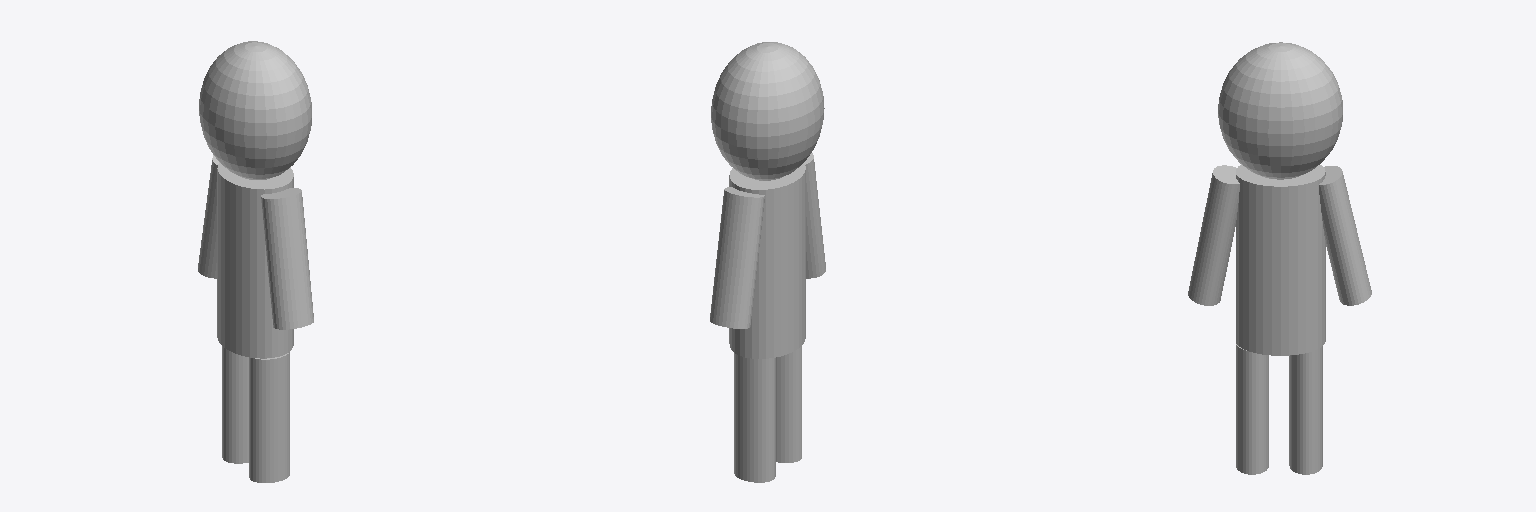
Rendered from simpleHuman.obj.
The picture shows the model from 3 angles: view 1: azimuth 30°, elevation 25°; view 2: azimuth 150°, elevation 25°; view 3: azimuth 270°, elevation 25°; orthographic projection.
Visible parts, largest first — view 1: Cylinder.003; view 2: Cylinder.003; view 3: Cylinder.003.
Boxes of the visible parts, x1=… form: Cylinder.003: x1=198, y1=41, x2=313, y2=482; Cylinder.003: x1=710, y1=42, x2=825, y2=482; Cylinder.003: x1=1188, y1=42, x2=1371, y2=474.
Size of the model in its own units: 0.6352 by 2.68 by 1.07.